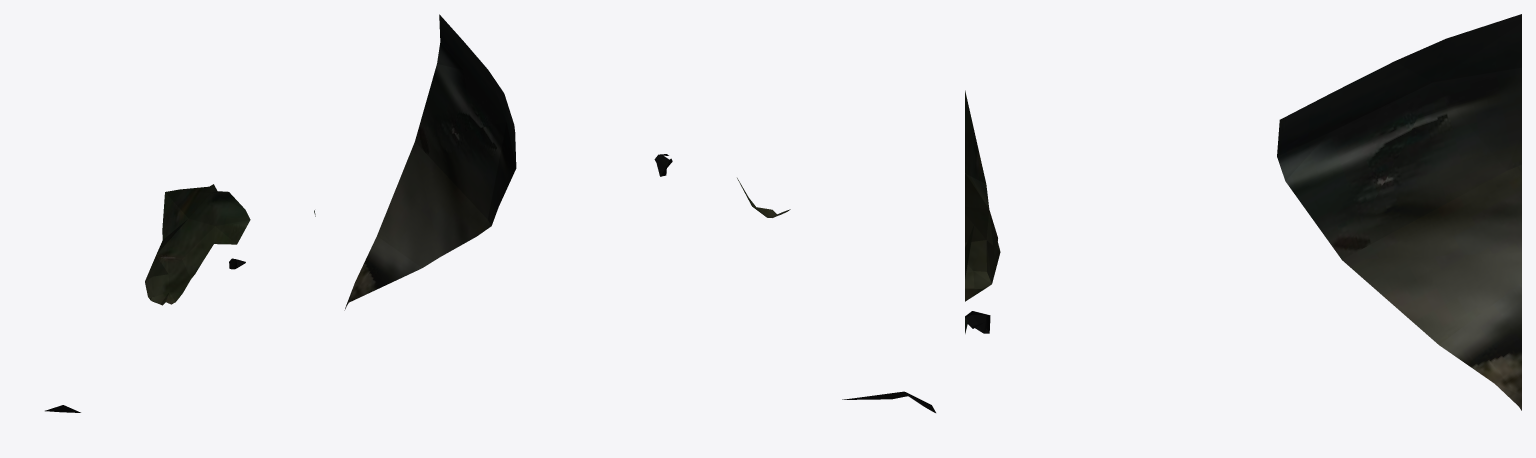
3 views of the same model, side by side, from view 1: azimuth 30°, elevation 25°; view 2: azimuth 150°, elevation 25°; view 3: azimuth 270°, elevation 25° (orthographic). The views are drawn at different scales.
Size of the model in its own units: 0.8374 by 0.8373 by 0.8374.
Materials: 1 (1 with a texture image).
